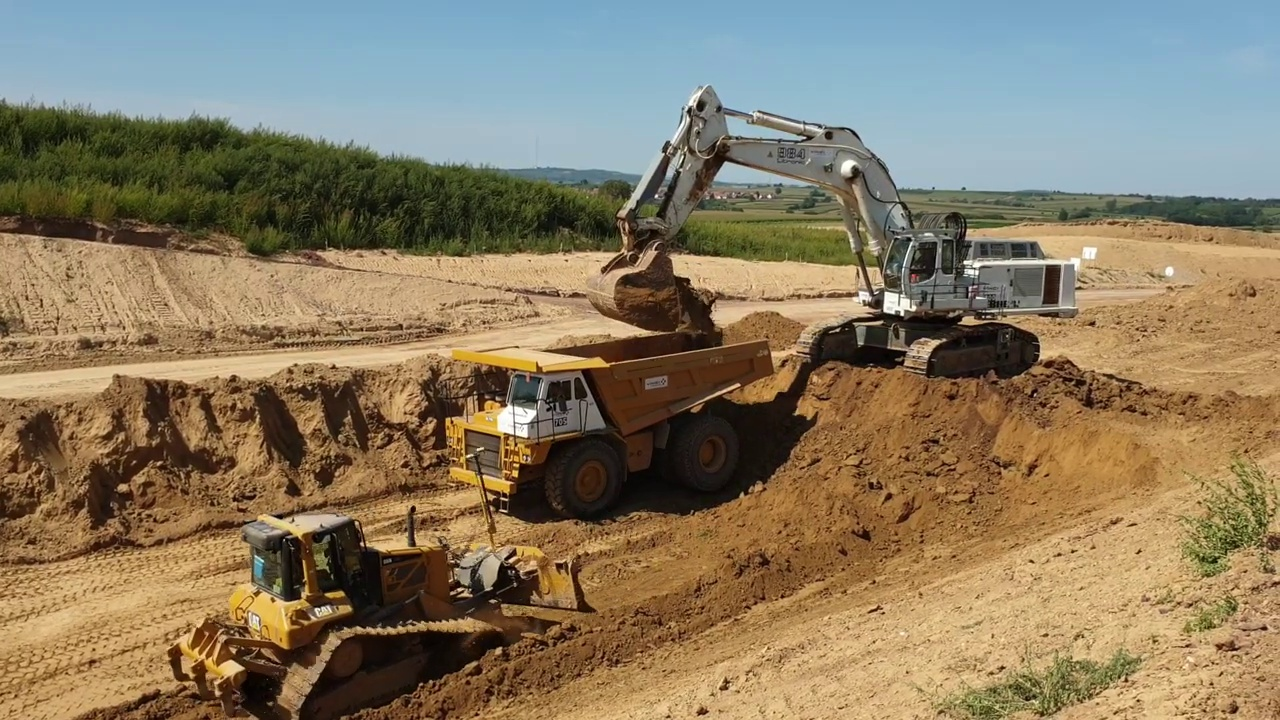bulldozer: (167, 445, 603, 720)
excavator: (584, 79, 1084, 382)
truck: (443, 327, 784, 528)
